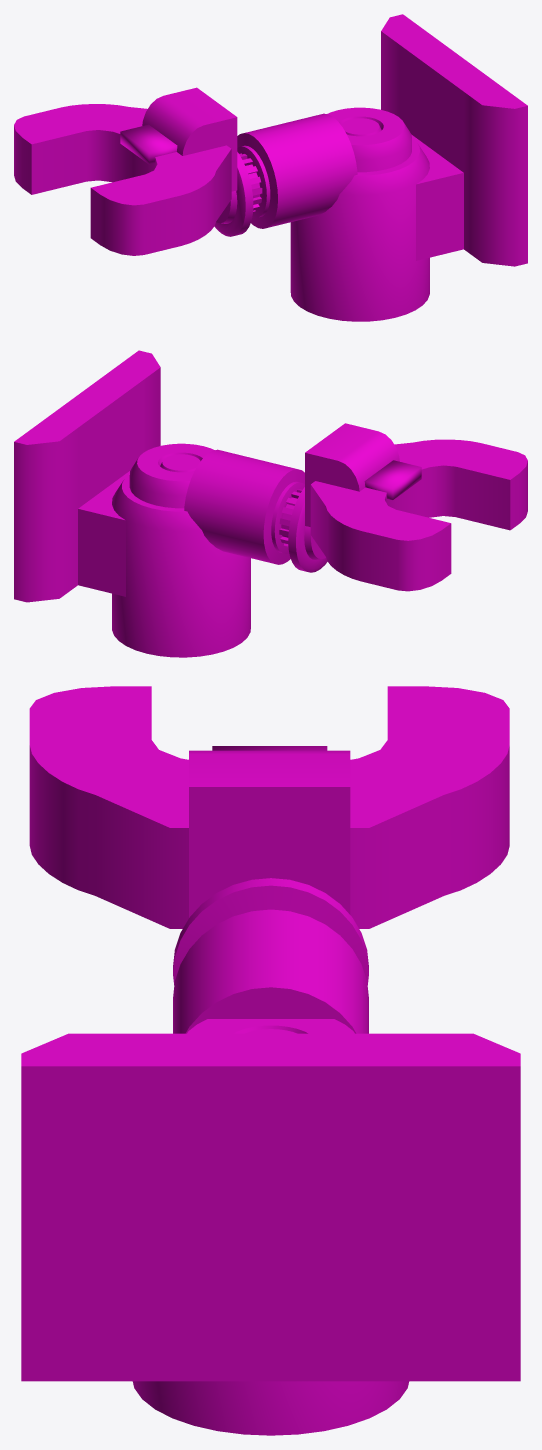
Rendered from Comp_Tractor.fbx.
3 views of the same model, one above another, from view 1: azimuth 30°, elevation 25°; view 2: azimuth 150°, elevation 25°; view 3: azimuth 270°, elevation 25° (orthographic). The views are drawn at different scales.
Parts seen in each view (by area): view 1: Cylinder.076, Cube.031, Cube.032; view 2: Cylinder.076, Cube.031, Cube.032; view 3: Cylinder.076, Cube.031.
Boxes of the visible parts, x1=… form: Cylinder.076: x1=290, y1=14, x2=527, y2=321; Cube.031: x1=14, y1=87, x2=357, y2=255; Cube.032: x1=120, y1=124, x2=177, y2=164; Cylinder.076: x1=14, y1=350, x2=250, y2=657; Cube.031: x1=184, y1=423, x2=527, y2=591; Cube.032: x1=364, y1=460, x2=421, y2=499; Cylinder.076: x1=21, y1=1019, x2=520, y2=1435; Cube.031: x1=29, y1=686, x2=509, y2=1033.
Size of the model in its own units: 449 by 239 by 241.
